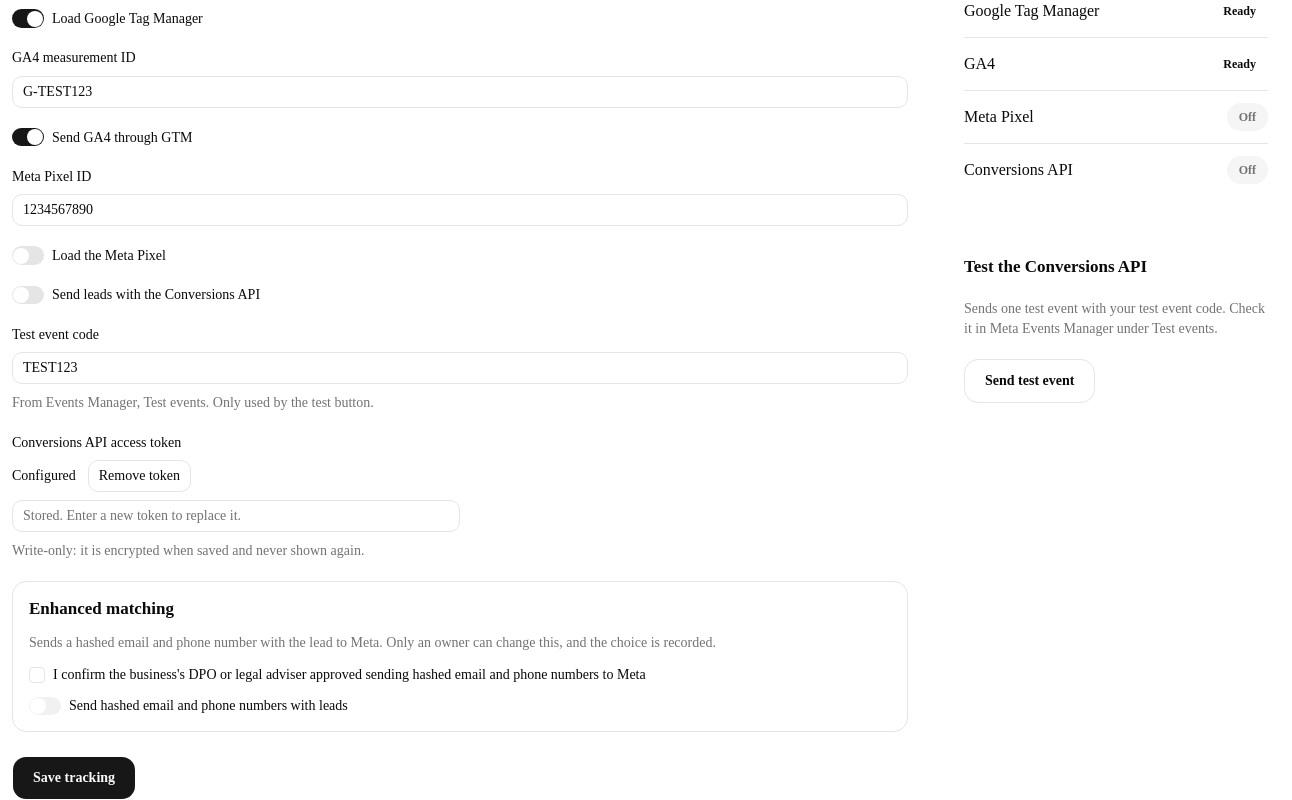
Scenario: TrackingView › shows the conflict message and loads the other version on a 409
(page scrolled)
Step 1. Click the button "Save tracking" → (74, 778), box [12,756,136,799]
(page scrolled)
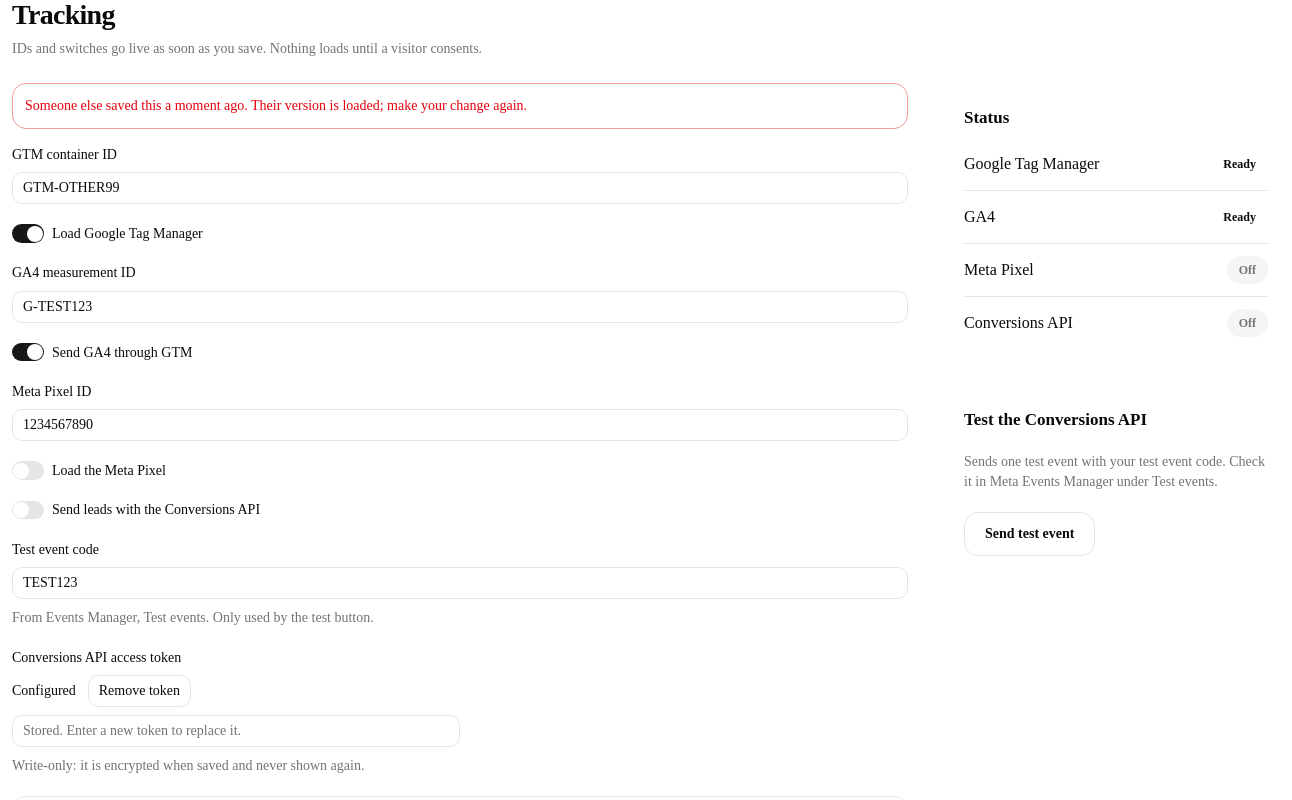
Now the field labelled "GTM container ID" holds "GTM-OTHER99", box [12,172,908,204]
Now the message shows "Someone else saved this a moment ago. Their version is loaded; make your change again.", box [25,98,527,113]
